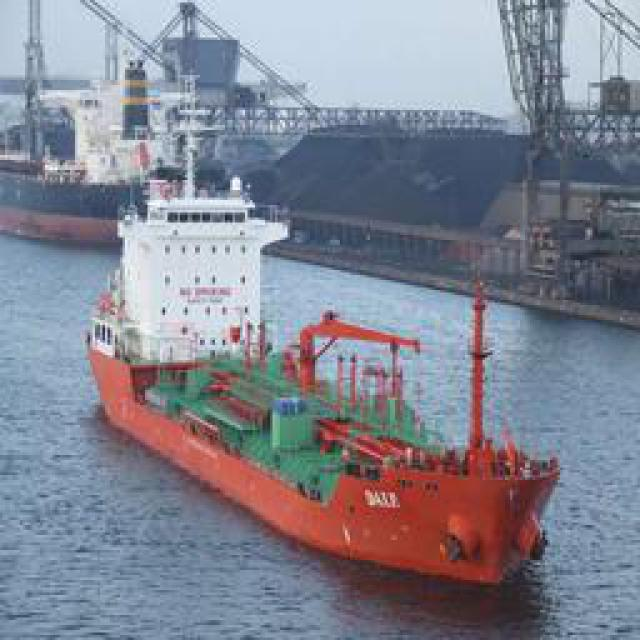Ship: (91, 160, 574, 600)
